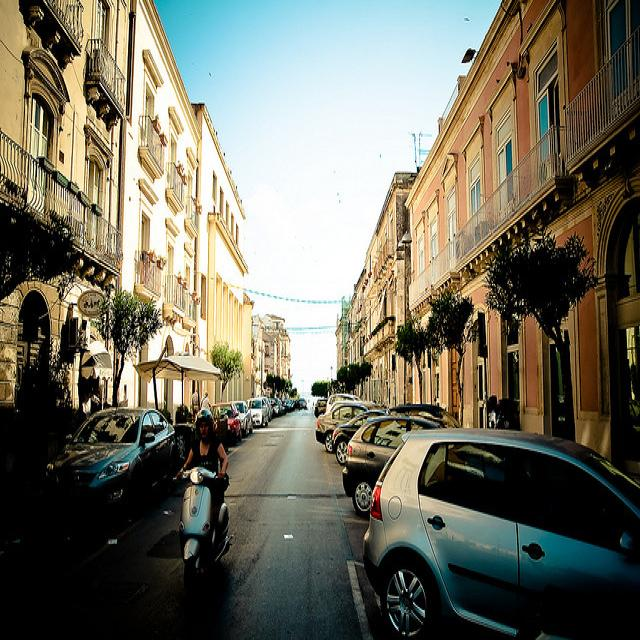motor: (174, 466, 233, 593)
